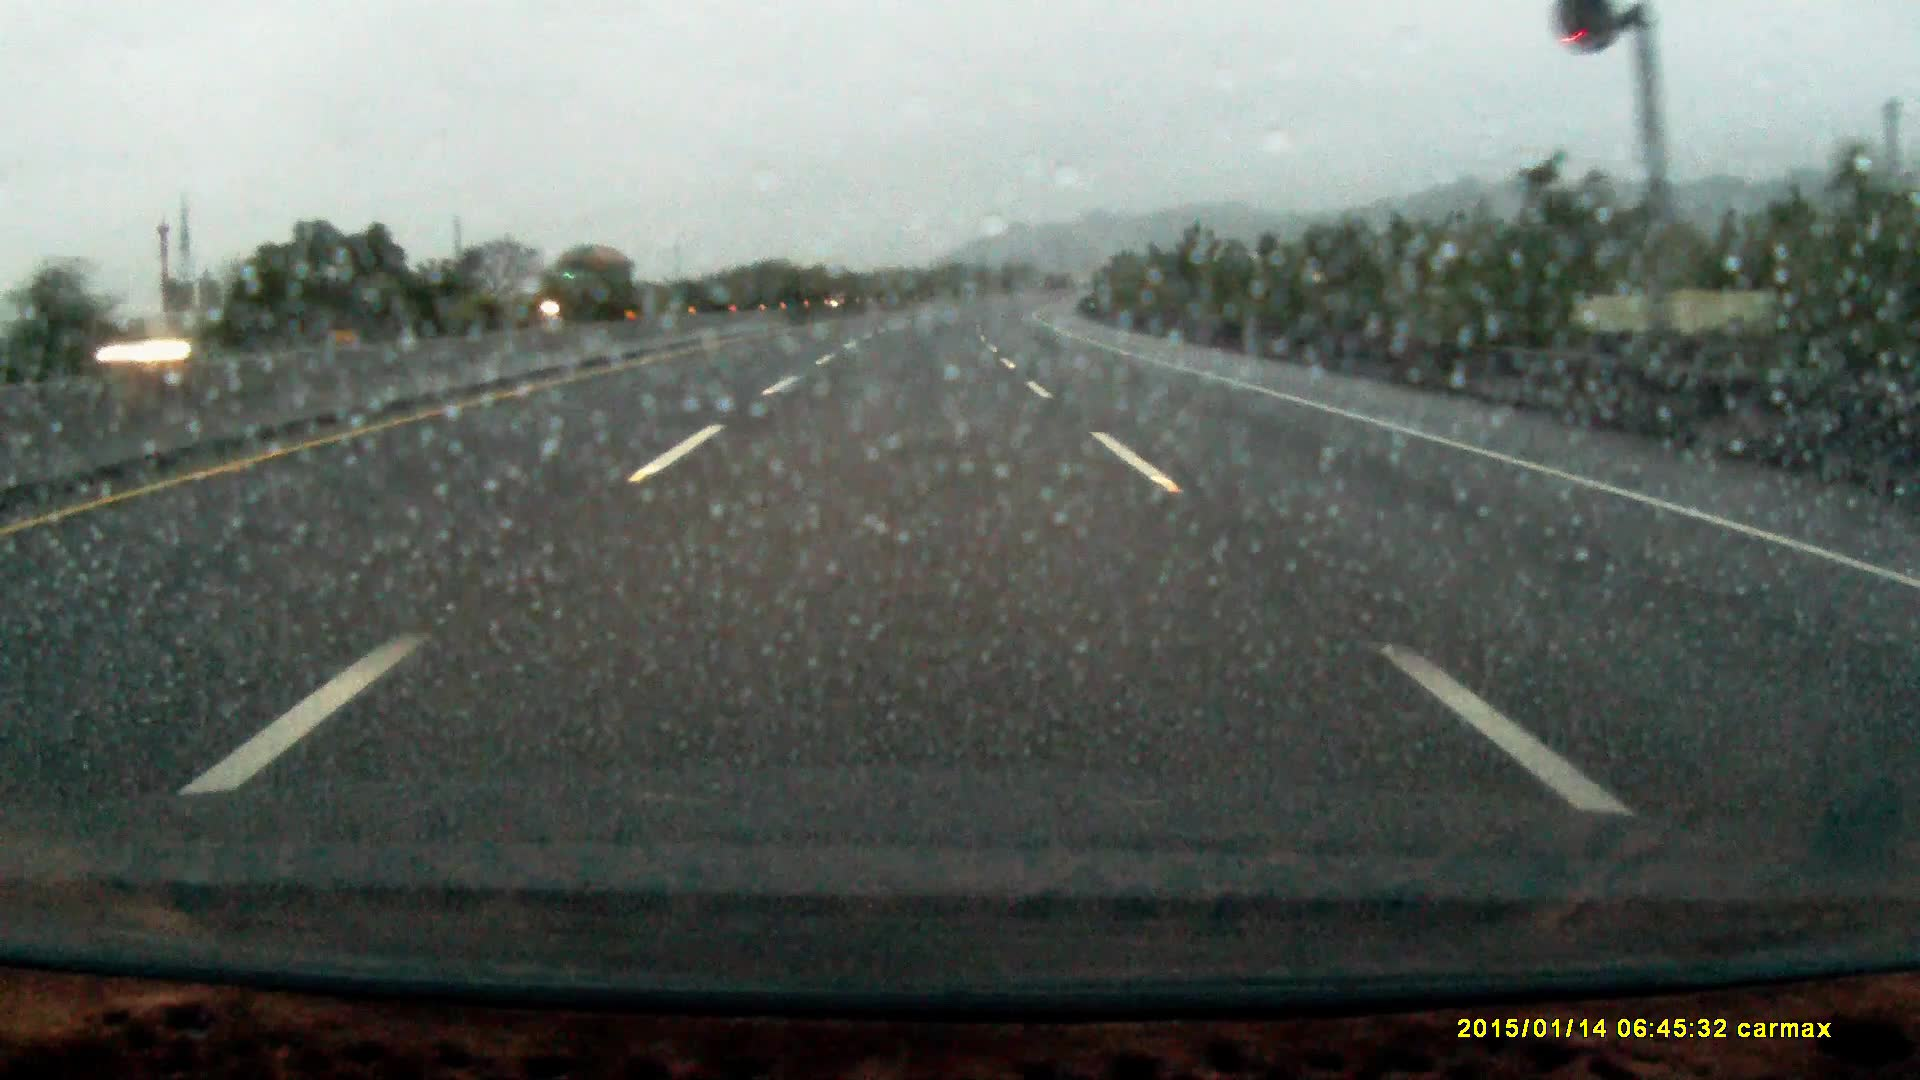vehicle: (541, 243, 638, 320)
